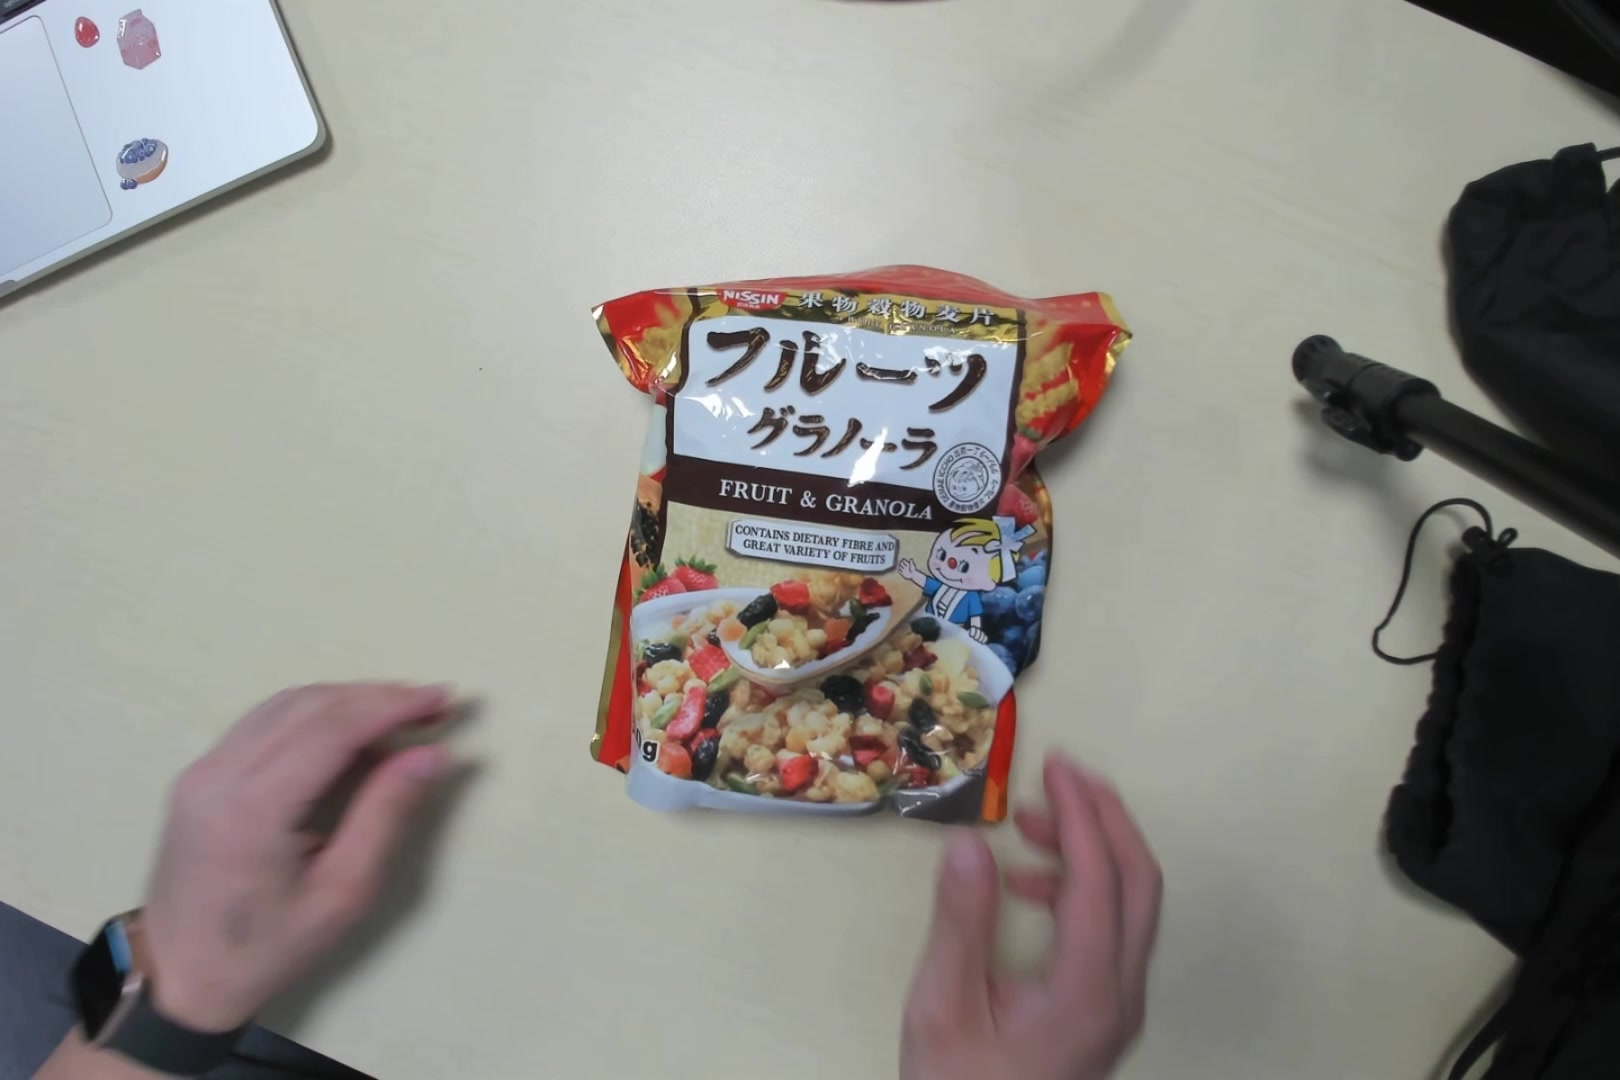BreakfastCereals_300-399g_NonHalal_NonHealthy: (595, 262, 1082, 829)
